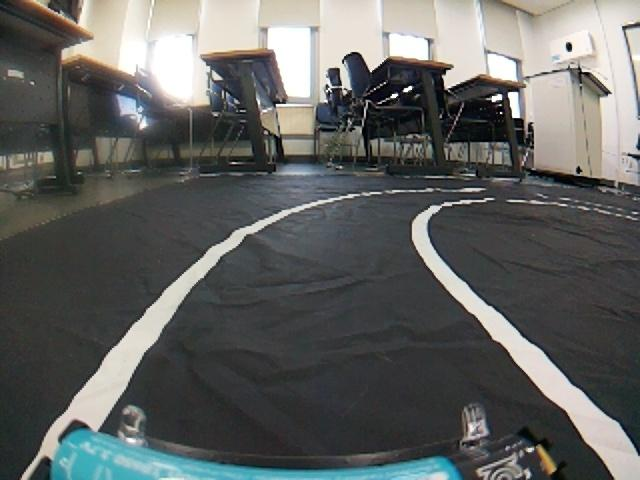straight: (2, 247, 636, 479)
